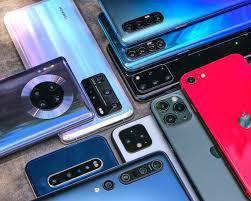Smartphone: (3, 0, 127, 141), (135, 2, 251, 101), (149, 98, 241, 201), (115, 0, 251, 67), (183, 53, 251, 184), (0, 56, 80, 156), (21, 153, 188, 199), (108, 120, 196, 201), (17, 147, 115, 195)
